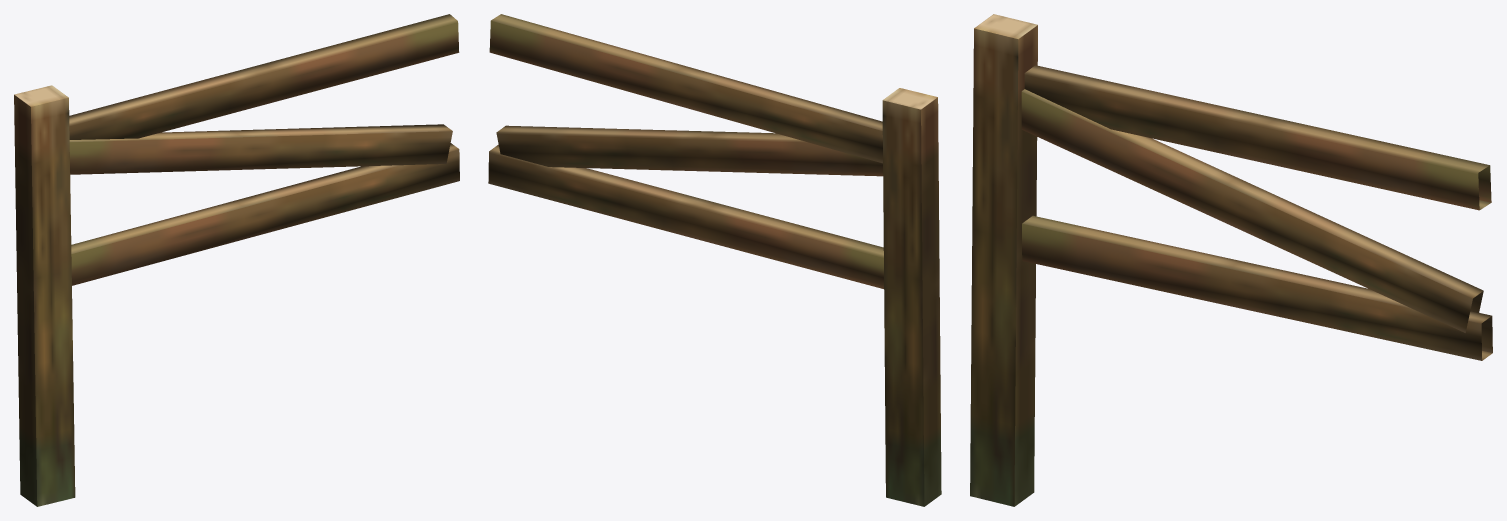
Rendered from general_obj_fence05.fbx.
3 views of the same model, side by side, from view 1: azimuth 30°, elevation 25°; view 2: azimuth 150°, elevation 25°; view 3: azimuth 330°, elevation 25° (orthographic). The views are drawn at different scales.
Visible parts, largest first — view 1: Sphere01; view 2: Sphere01; view 3: Sphere01.
Part boxes in pixels (box(x1,y1,x2,y2)): Sphere01: box(14, 14, 459, 506); Sphere01: box(488, 14, 941, 506); Sphere01: box(970, 14, 1492, 506).
Bounding box in the file's own units: 2.44 × 2.14 × 0.213.
